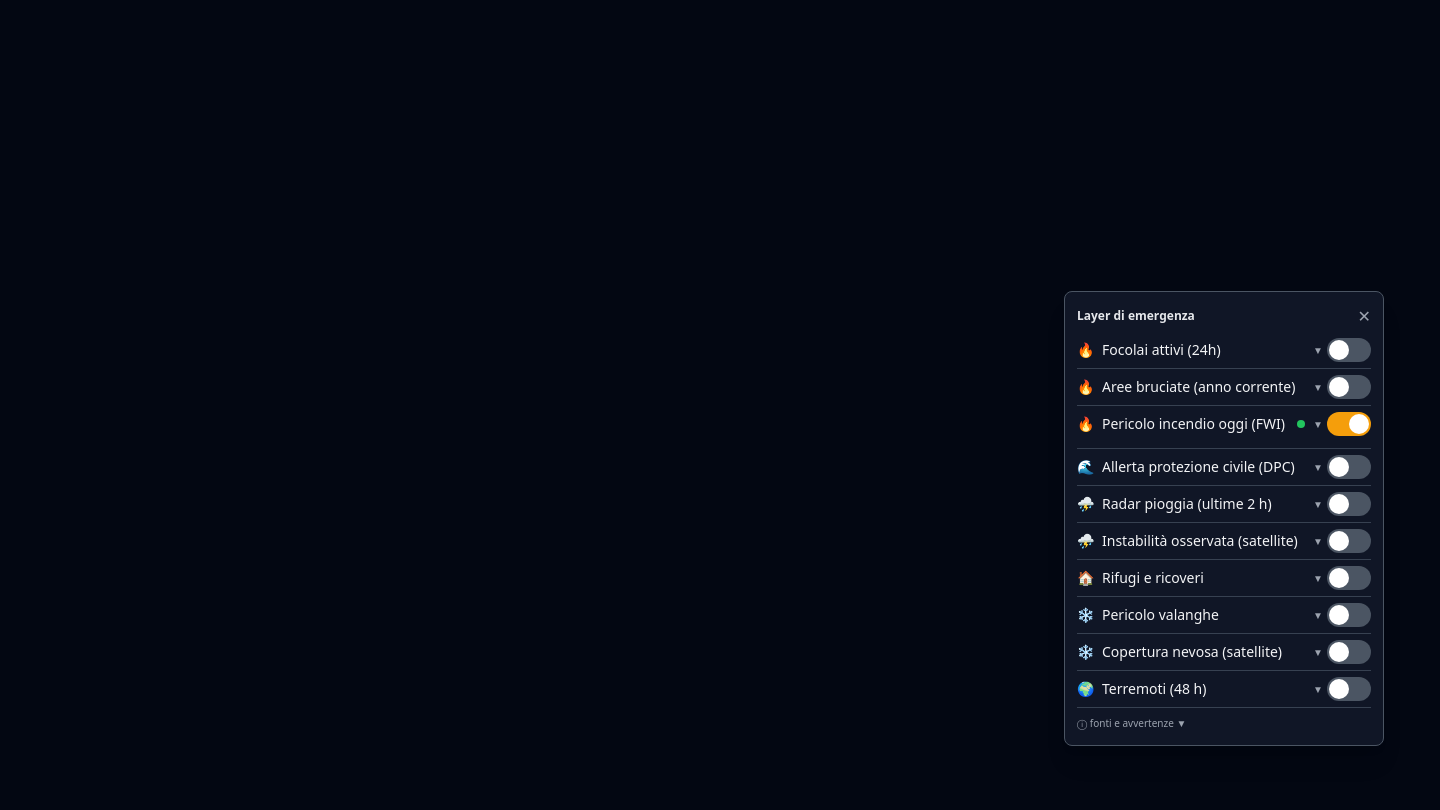
EmergencyLayersPanel › anche i layer WMS mostrano l orario di aggiornamento
This screenshot has width=1440, height=810.
Click the button "🔥 Pericolo incendio oggi (FWI) ▼". click: (1200, 424)
box: [1077,406,1323,442]
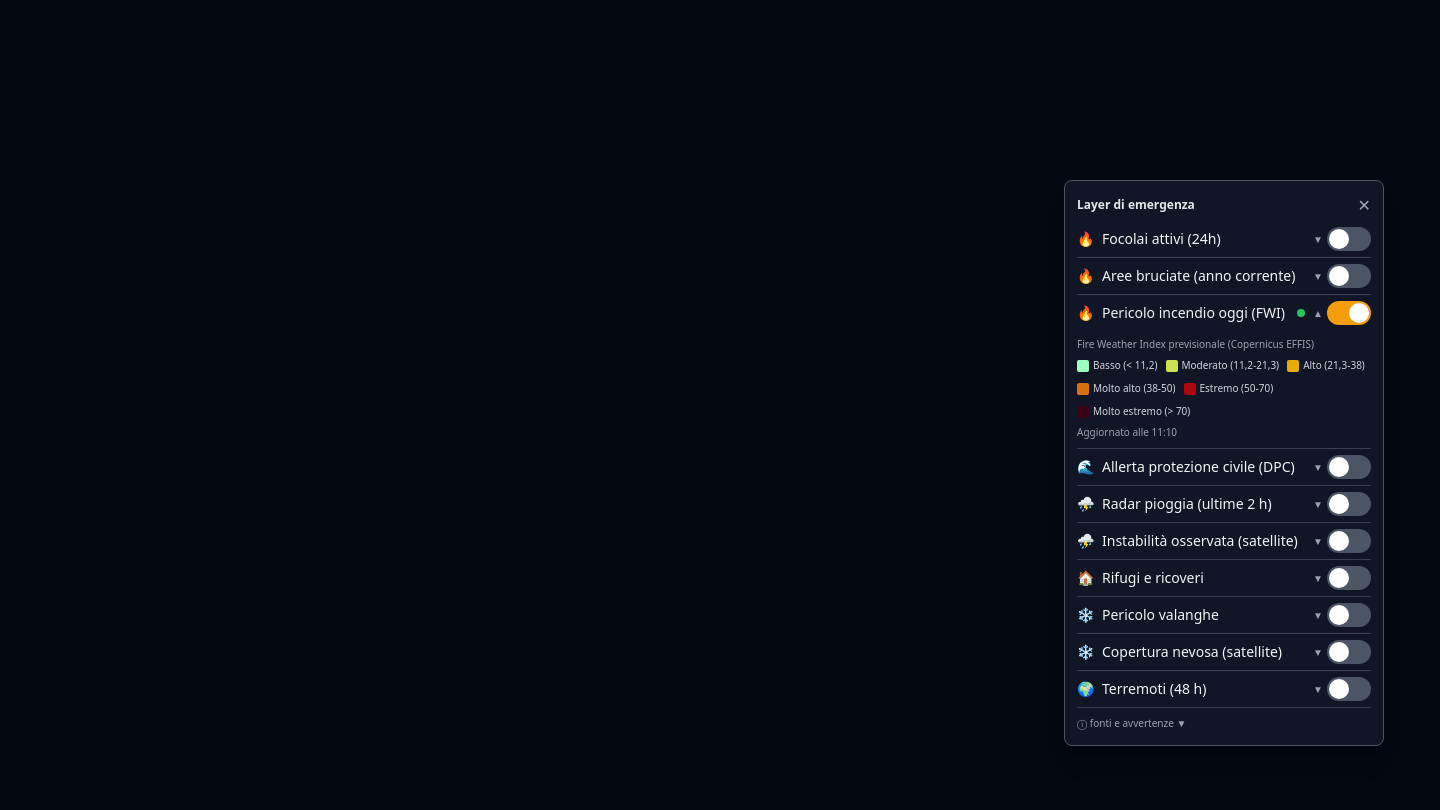
Result: the text "Aggiornato alle 11:10" is shown at [1077,425,1177,439]
